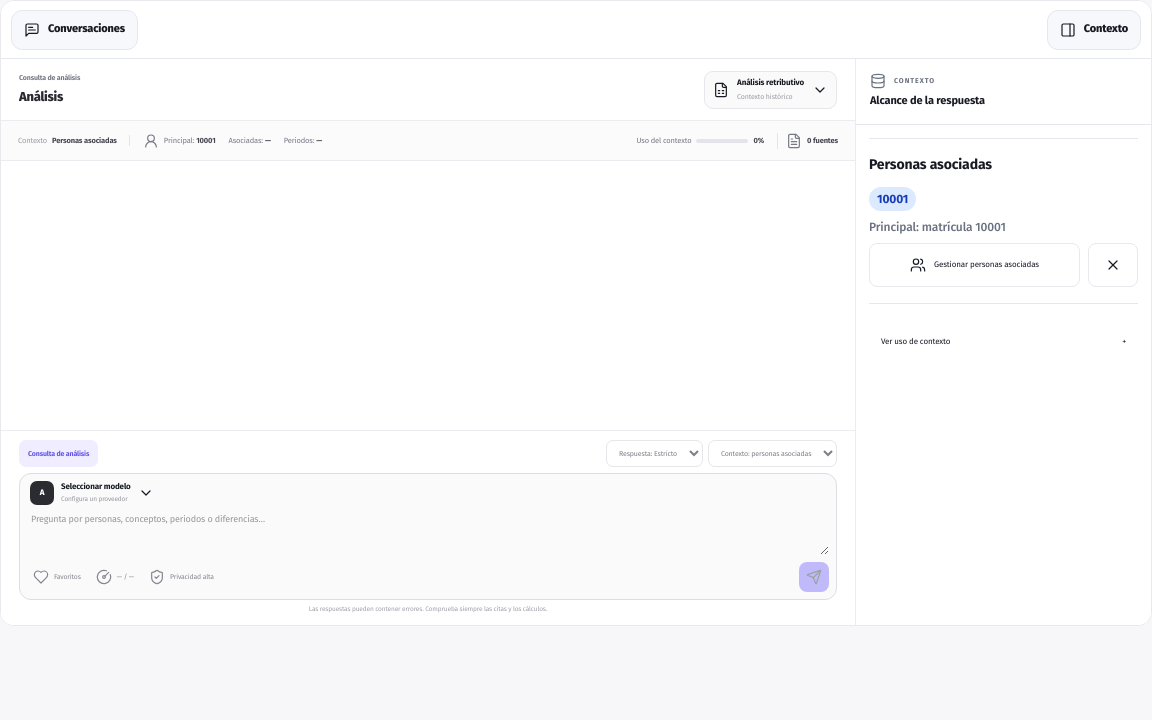
Test case: assistant model selector regressions › reports a compatibility failure without an unhandled exception or catalog mutation
Click the button with aria-label "Modelo de conversación: sin seleccionar" at (92, 493), box [27,481,157,505]
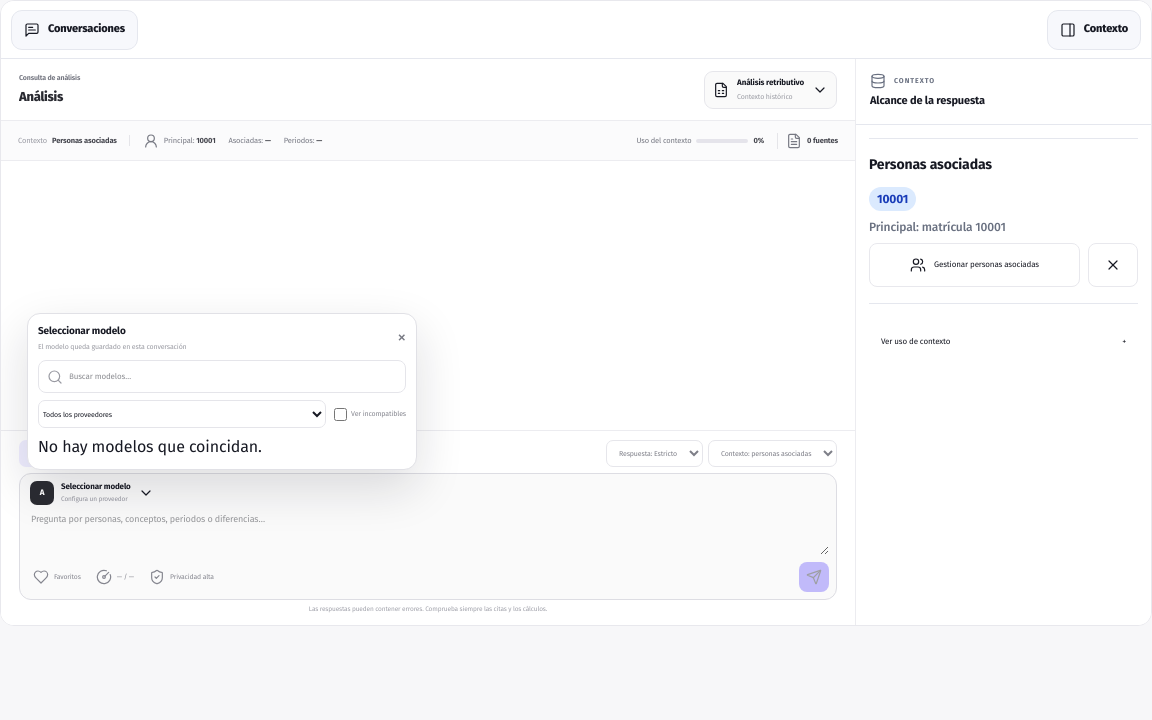
Click the checkbox named "Ver todos" at (341, 414), box [334,408,347,421]
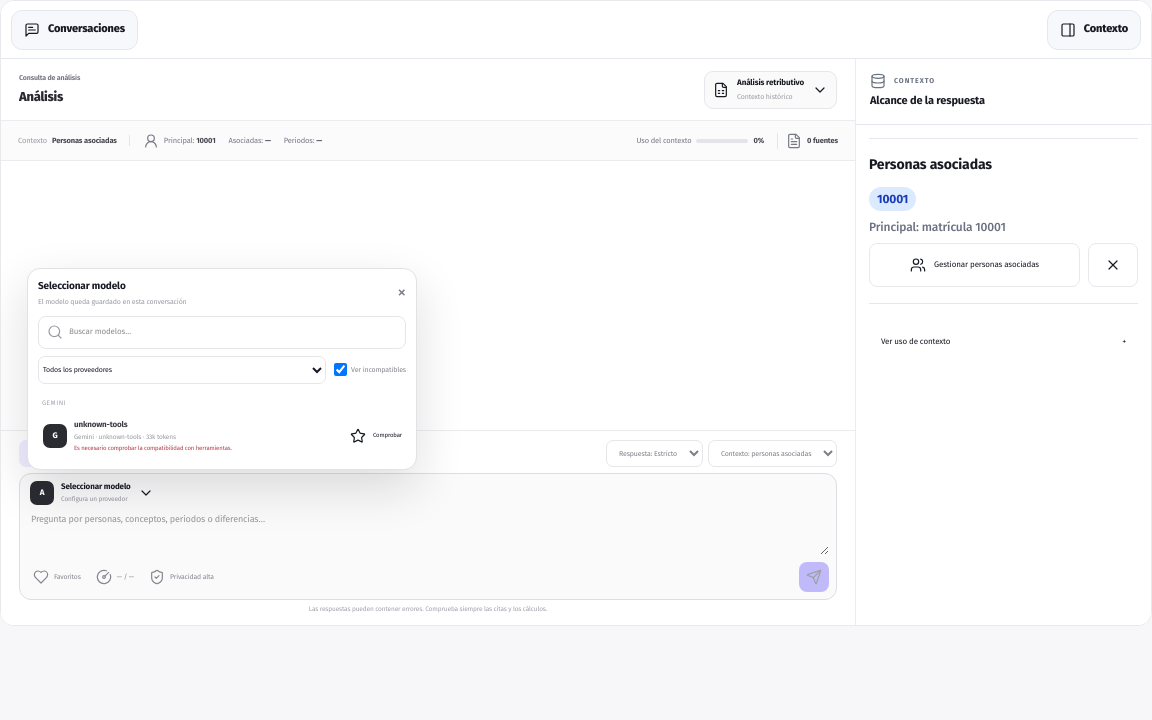
Click the button with aria-label "Comprobar compatibilidad" at (388, 436), box [373,431,402,440]
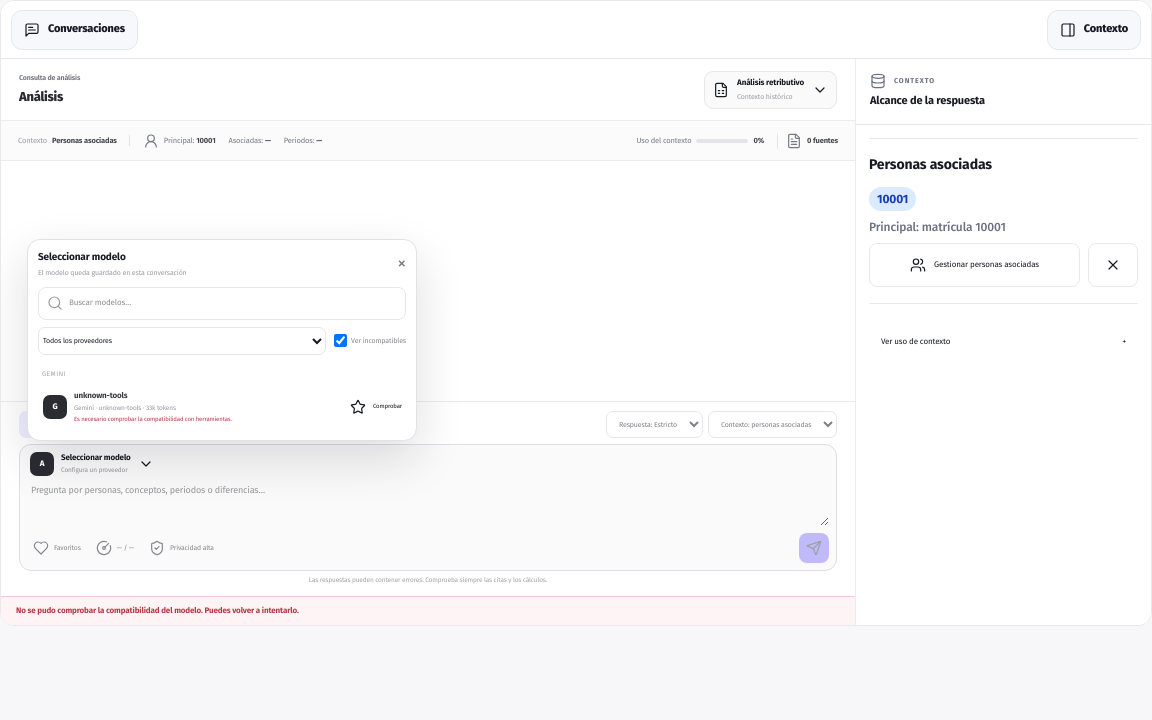
Expected: the button with aria-label "Comprobar compatibilidad" is enabled, [373,402,402,411]
Expected: the text "No se pudo comprobar la compatibilidad del modelo. Puedes volver a intentarlo." is shown, [1,596,855,625]
